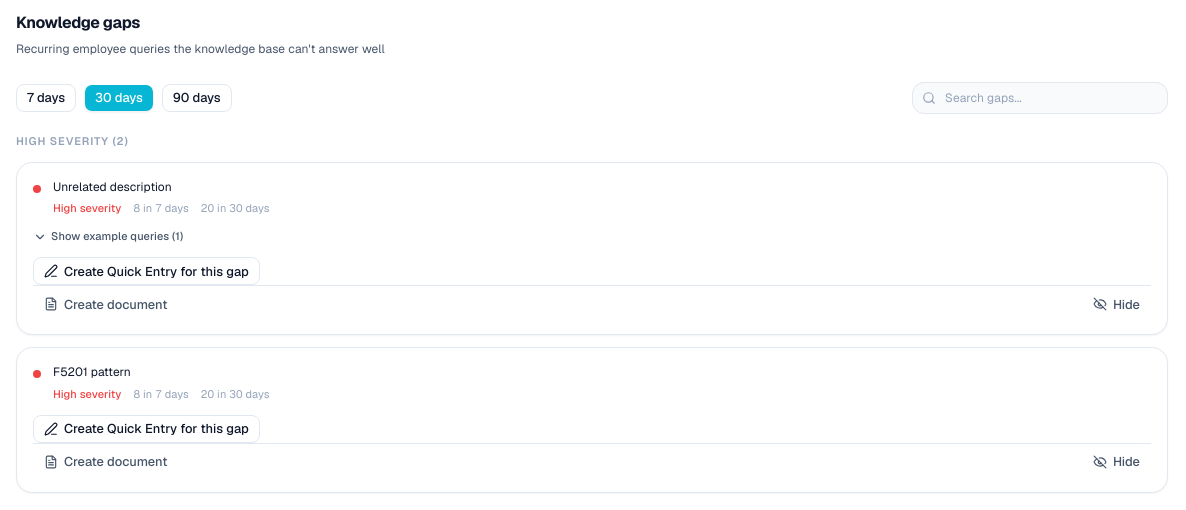
it: KnowledgeGapsPage › matches search against example_queries as well as gap_description
Type "VL150" into the field named "Search knowledge gaps" at {"x": 1040, "y": 98}, box [912,82,1168,114]
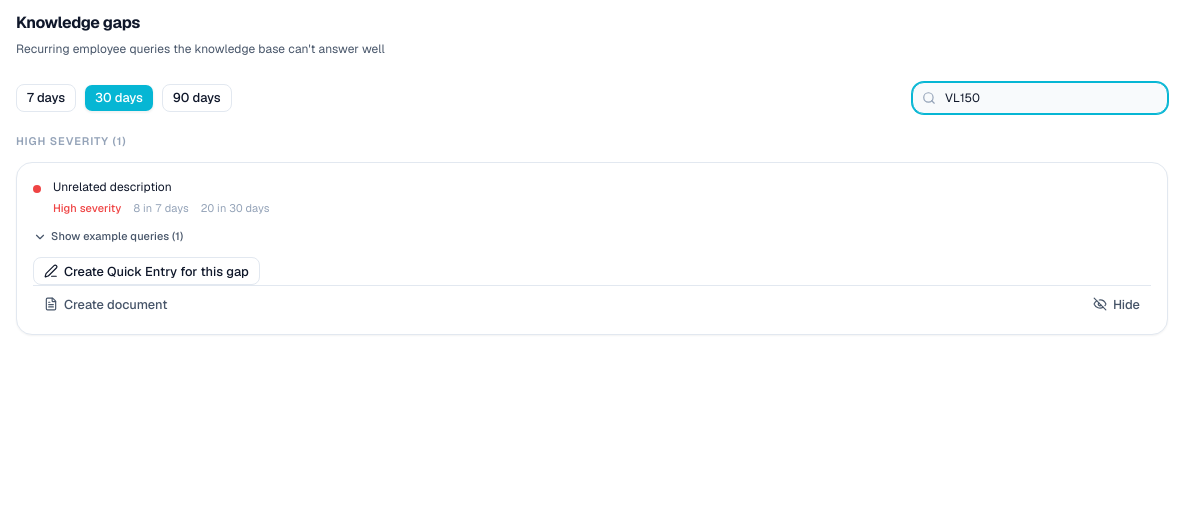
Expected: the text "Unrelated description" is shown, [53,179,172,195]
Now the text "F5201 pattern" is gone
